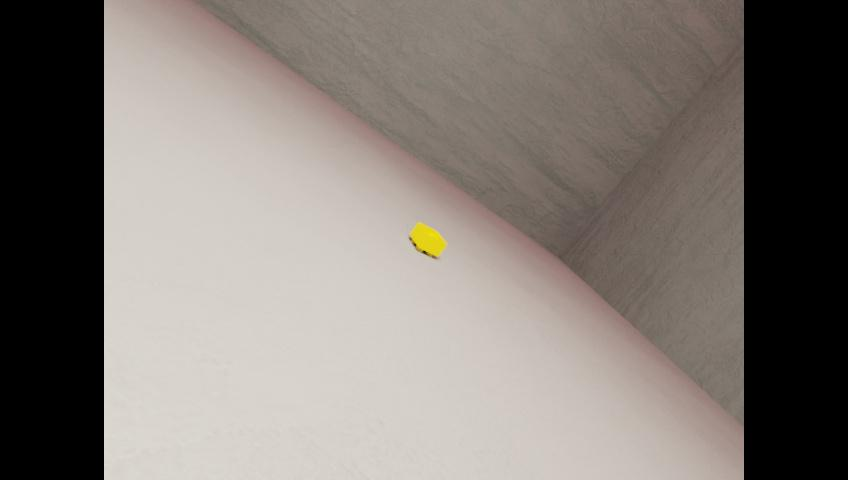2x2_yellow: (409, 221, 446, 256)
